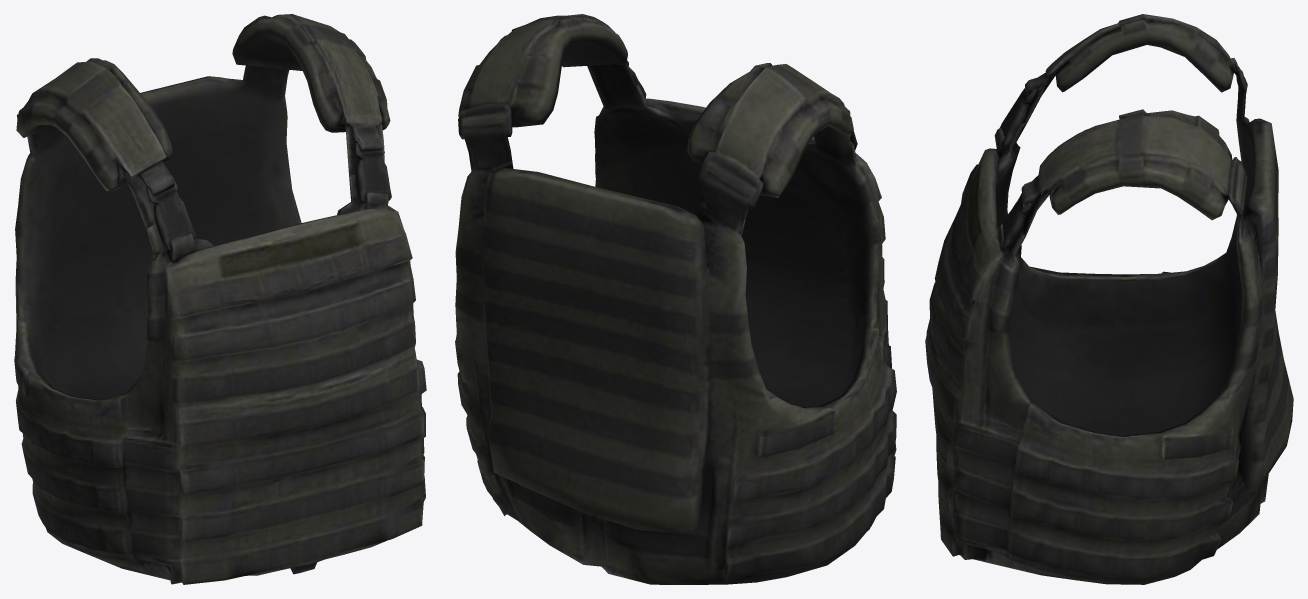
The model's file is vest3.glb.
3 views of the same model, side by side, from view 1: azimuth 30°, elevation 25°; view 2: azimuth 150°, elevation 25°; view 3: azimuth 270°, elevation 25° (orthographic). The views are drawn at different scales.
Parts seen in each view (by area): view 1: prop; view 2: prop; view 3: prop.
Part boxes in pixels (<box>): prop: <box>14,14,426,584</box>; prop: <box>455,14,896,584</box>; prop: <box>925,14,1293,584</box>.
Size of the model in its own units: 0.4513 by 0.5593 by 0.4117.
1 material, 1 textured.
